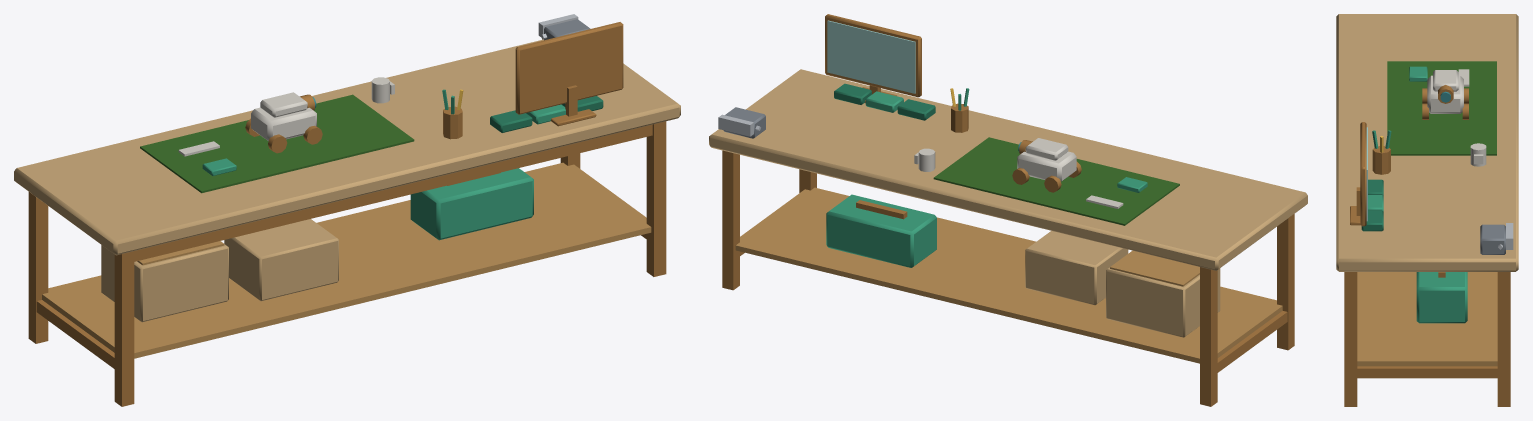
Rendered from workbench.glb.
The picture shows the model from 3 angles, left to right: view 1: azimuth 30°, elevation 25°; view 2: azimuth 150°, elevation 25°; view 3: azimuth 270°, elevation 25°; orthographic projection. The views are drawn at different scales.
Visible parts, largest first — view 1: body; view 2: body, screen; view 3: body, screen.
Part boxes in pixels (x1,y1,x2,y2): body: (14, 14, 680, 406); body: (709, 14, 1307, 406); screen: (827, 20, 915, 93); body: (1336, 14, 1518, 406); screen: (1366, 127, 1367, 221).
Bounding box in the file's own units: 3.2 × 1.36 × 1.
